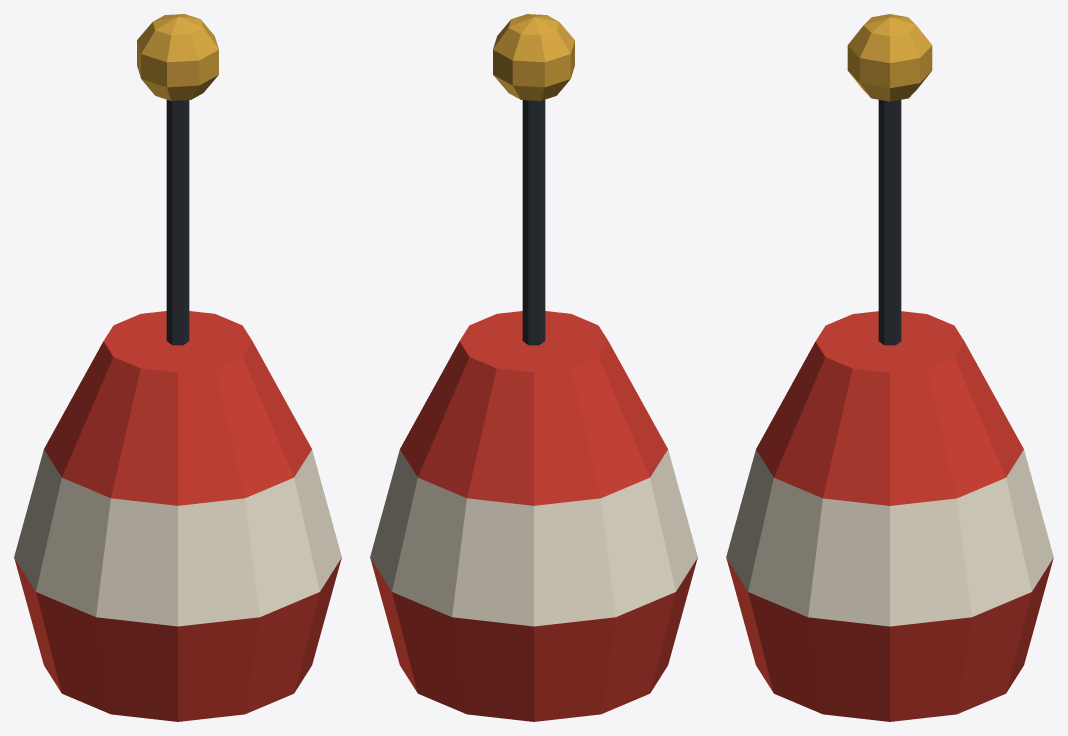
File: Buoy.fbx
3 views of the same model, side by side, from view 1: azimuth 30°, elevation 25°; view 2: azimuth 150°, elevation 25°; view 3: azimuth 270°, elevation 25° (orthographic).
Parts seen in each view (by area): view 1: Buoy; view 2: Buoy; view 3: Buoy.
Part boxes in pixels (x1=…): Buoy: x1=14, y1=14, x2=341, y2=721; Buoy: x1=370, y1=14, x2=697, y2=721; Buoy: x1=726, y1=14, x2=1053, y2=721.
Bounding box in the file's own units: 0.44 × 0.9833 × 0.44.
